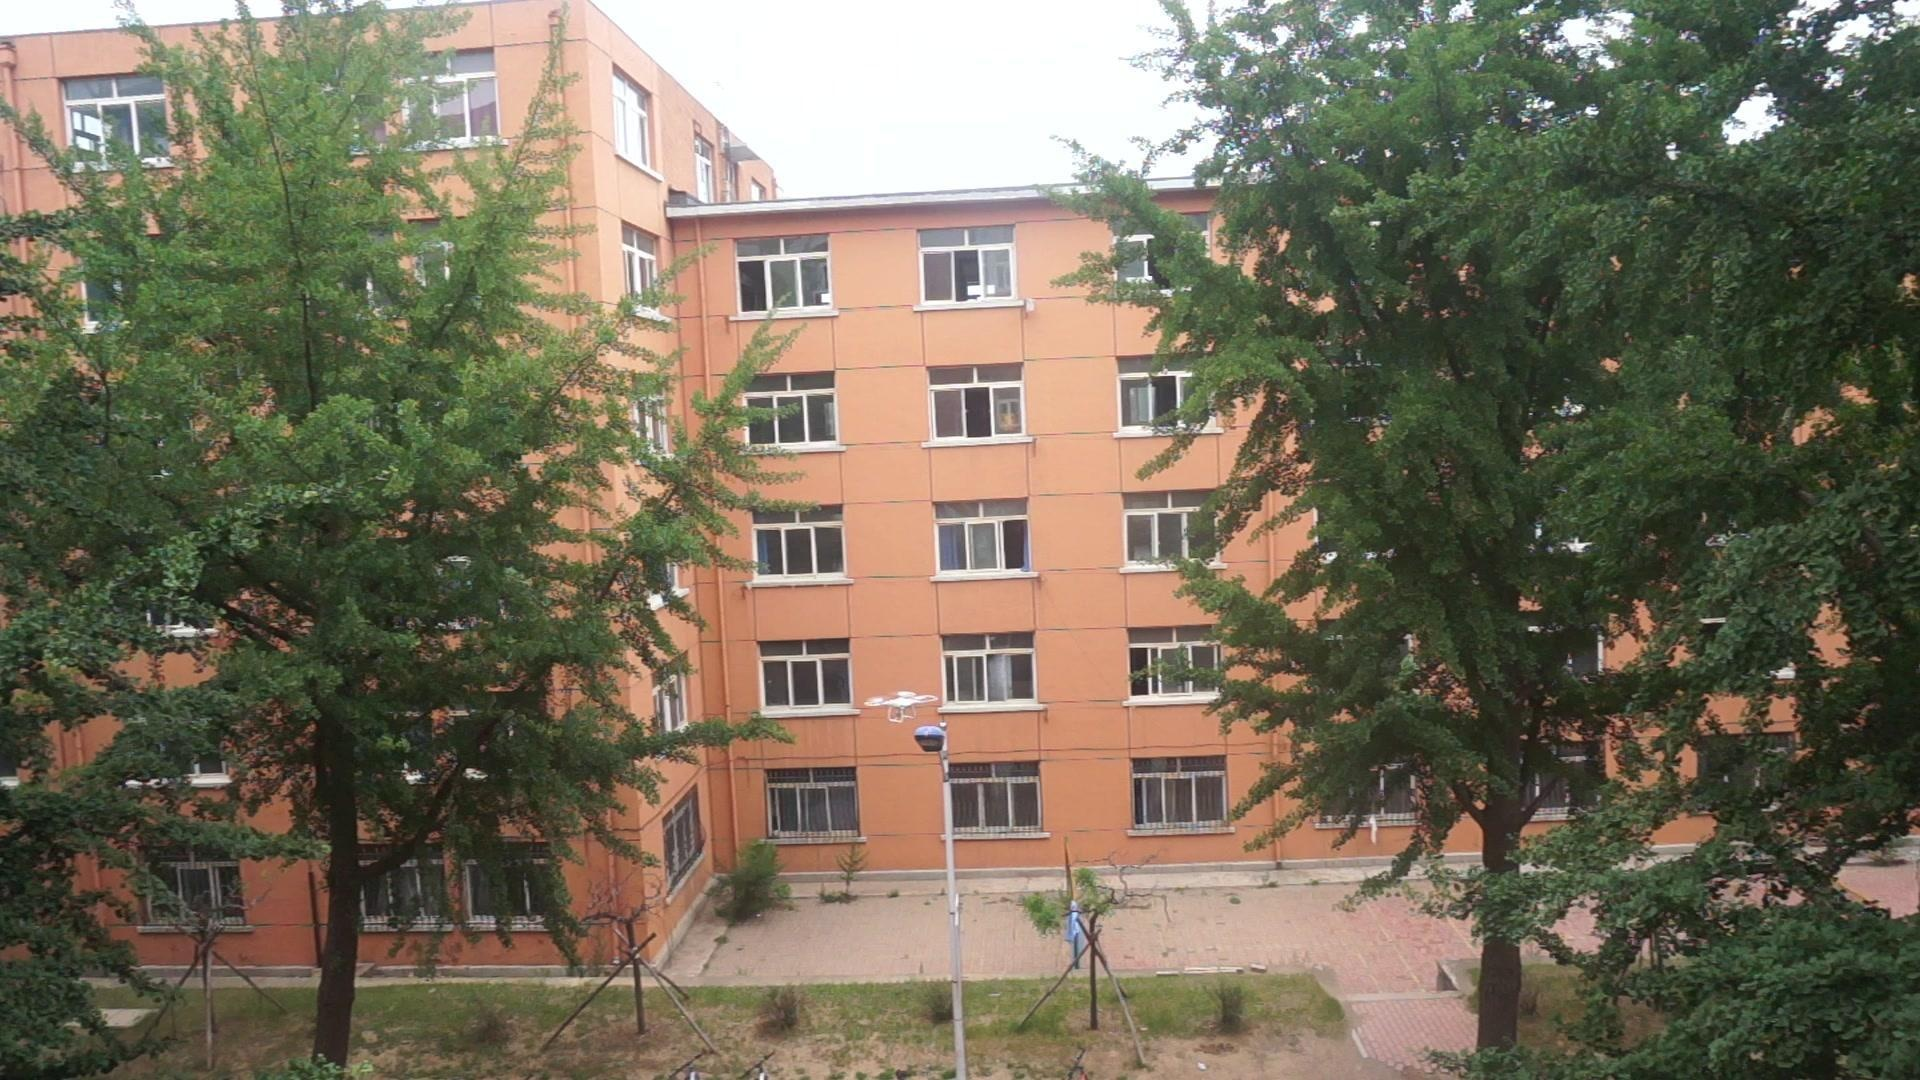UAV: (865, 692, 939, 724)
